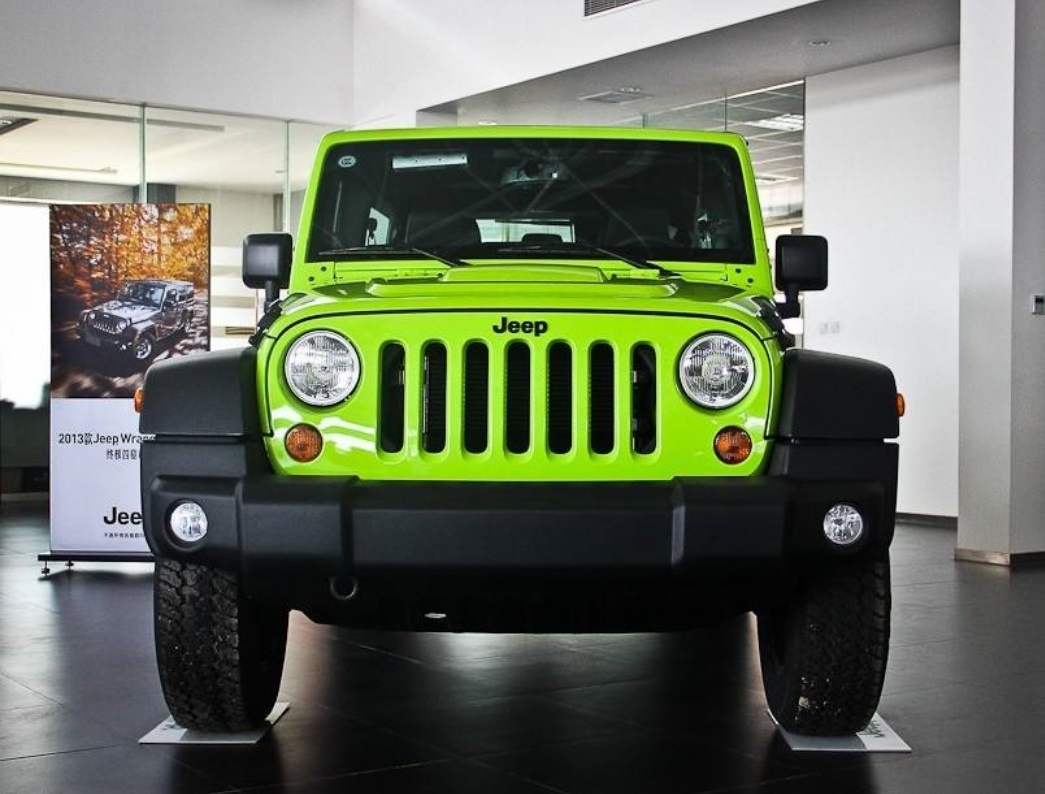jeep: (146, 113, 908, 744)
